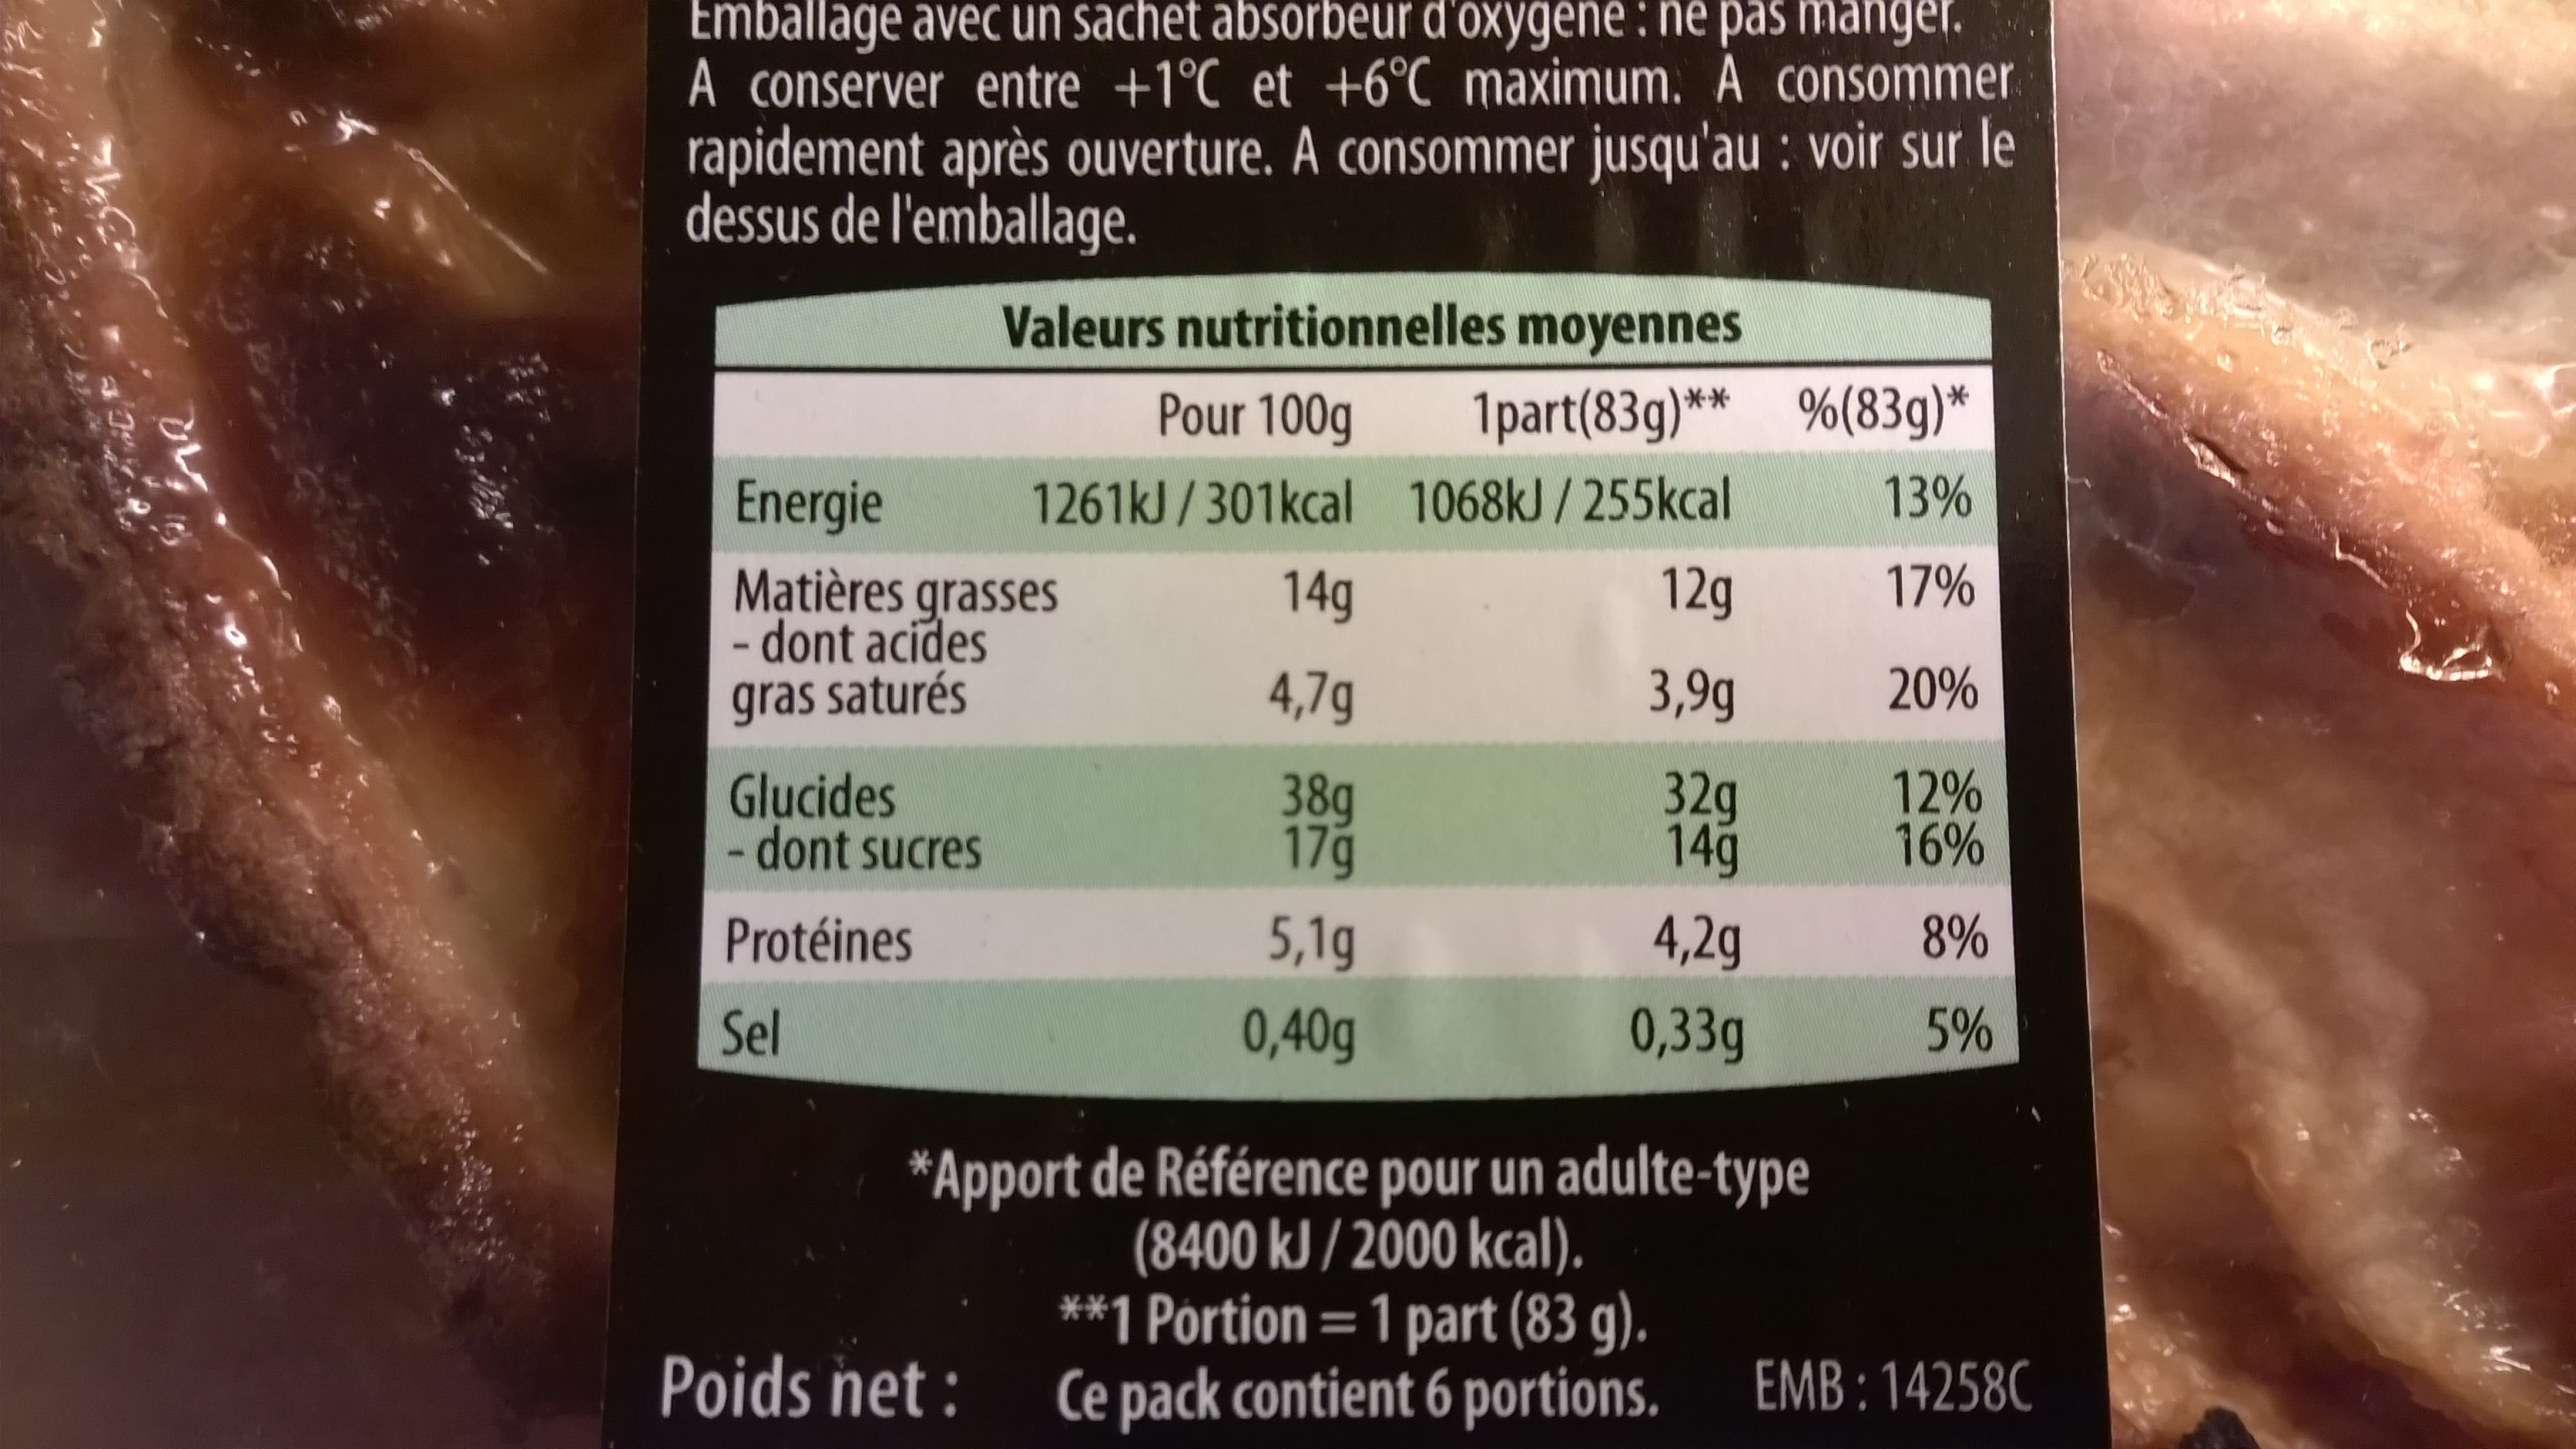column: (722, 370, 1361, 1104), (1412, 370, 1750, 1104), (1794, 370, 1996, 1108)
table: (694, 267, 2026, 1104)
